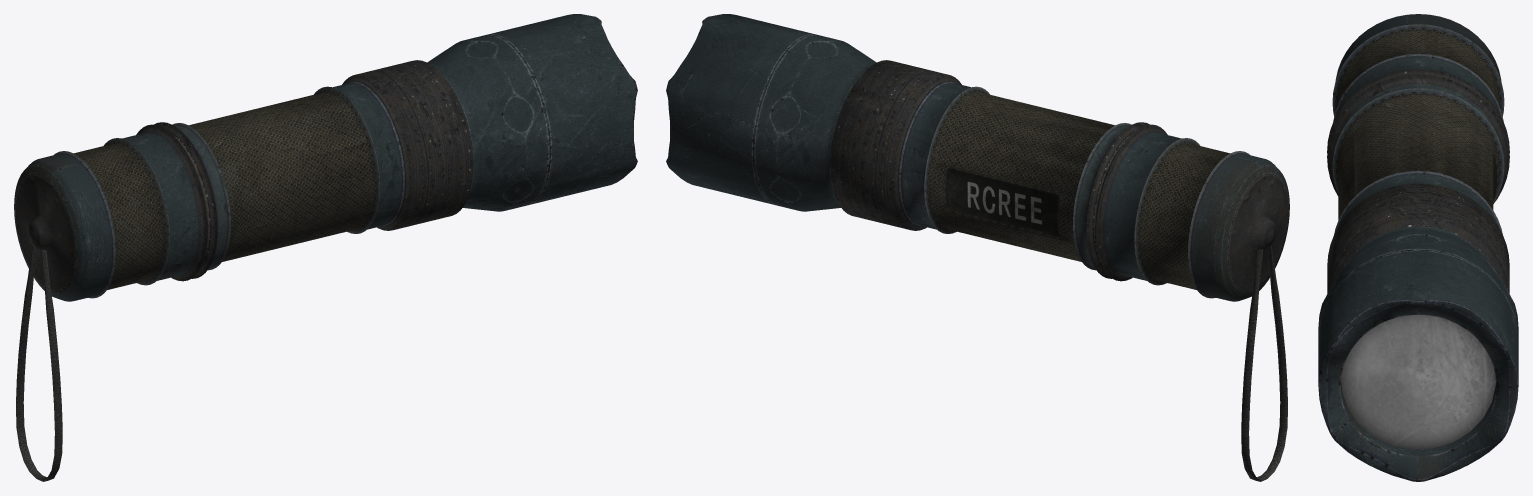
File: Flashlight_mdl.fbx
3 views of the same model, side by side, from view 1: azimuth 30°, elevation 25°; view 2: azimuth 150°, elevation 25°; view 3: azimuth 270°, elevation 25° (orthographic). The views are drawn at different scales.
Parts seen in each view (by area): view 1: Flashlight_mdl; view 2: Flashlight_mdl; view 3: Flashlight_mdl.
Part boxes in pixels (left/top/right/bottom): Flashlight_mdl: left=14, top=14, right=637, bottom=481; Flashlight_mdl: left=666, top=14, right=1289, bottom=481; Flashlight_mdl: left=1318, top=14, right=1518, bottom=481.
Size of the model in its own units: 10.83 by 5.9 by 2.9.
Materials: 1 (1 with a texture image).
